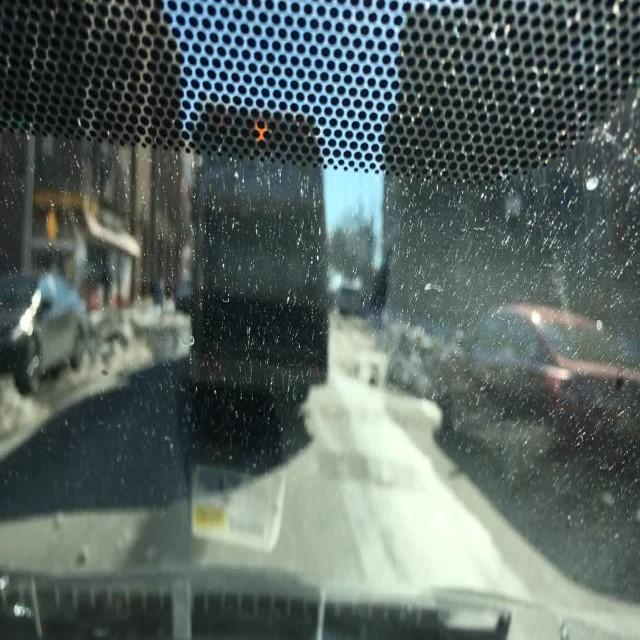normal: (145, 76, 387, 454)
